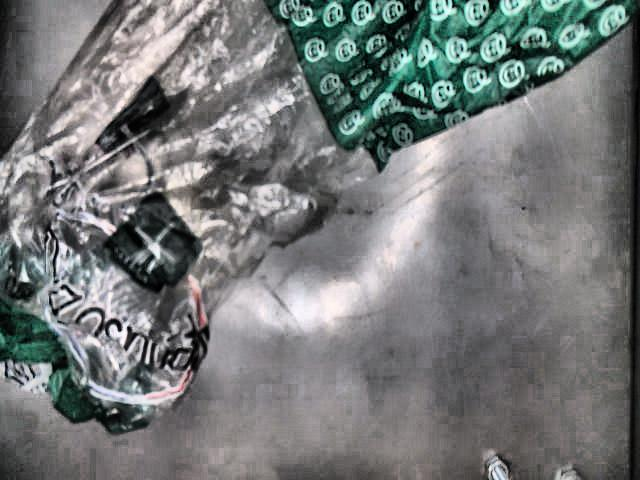Plastic: (0, 0, 640, 437)
